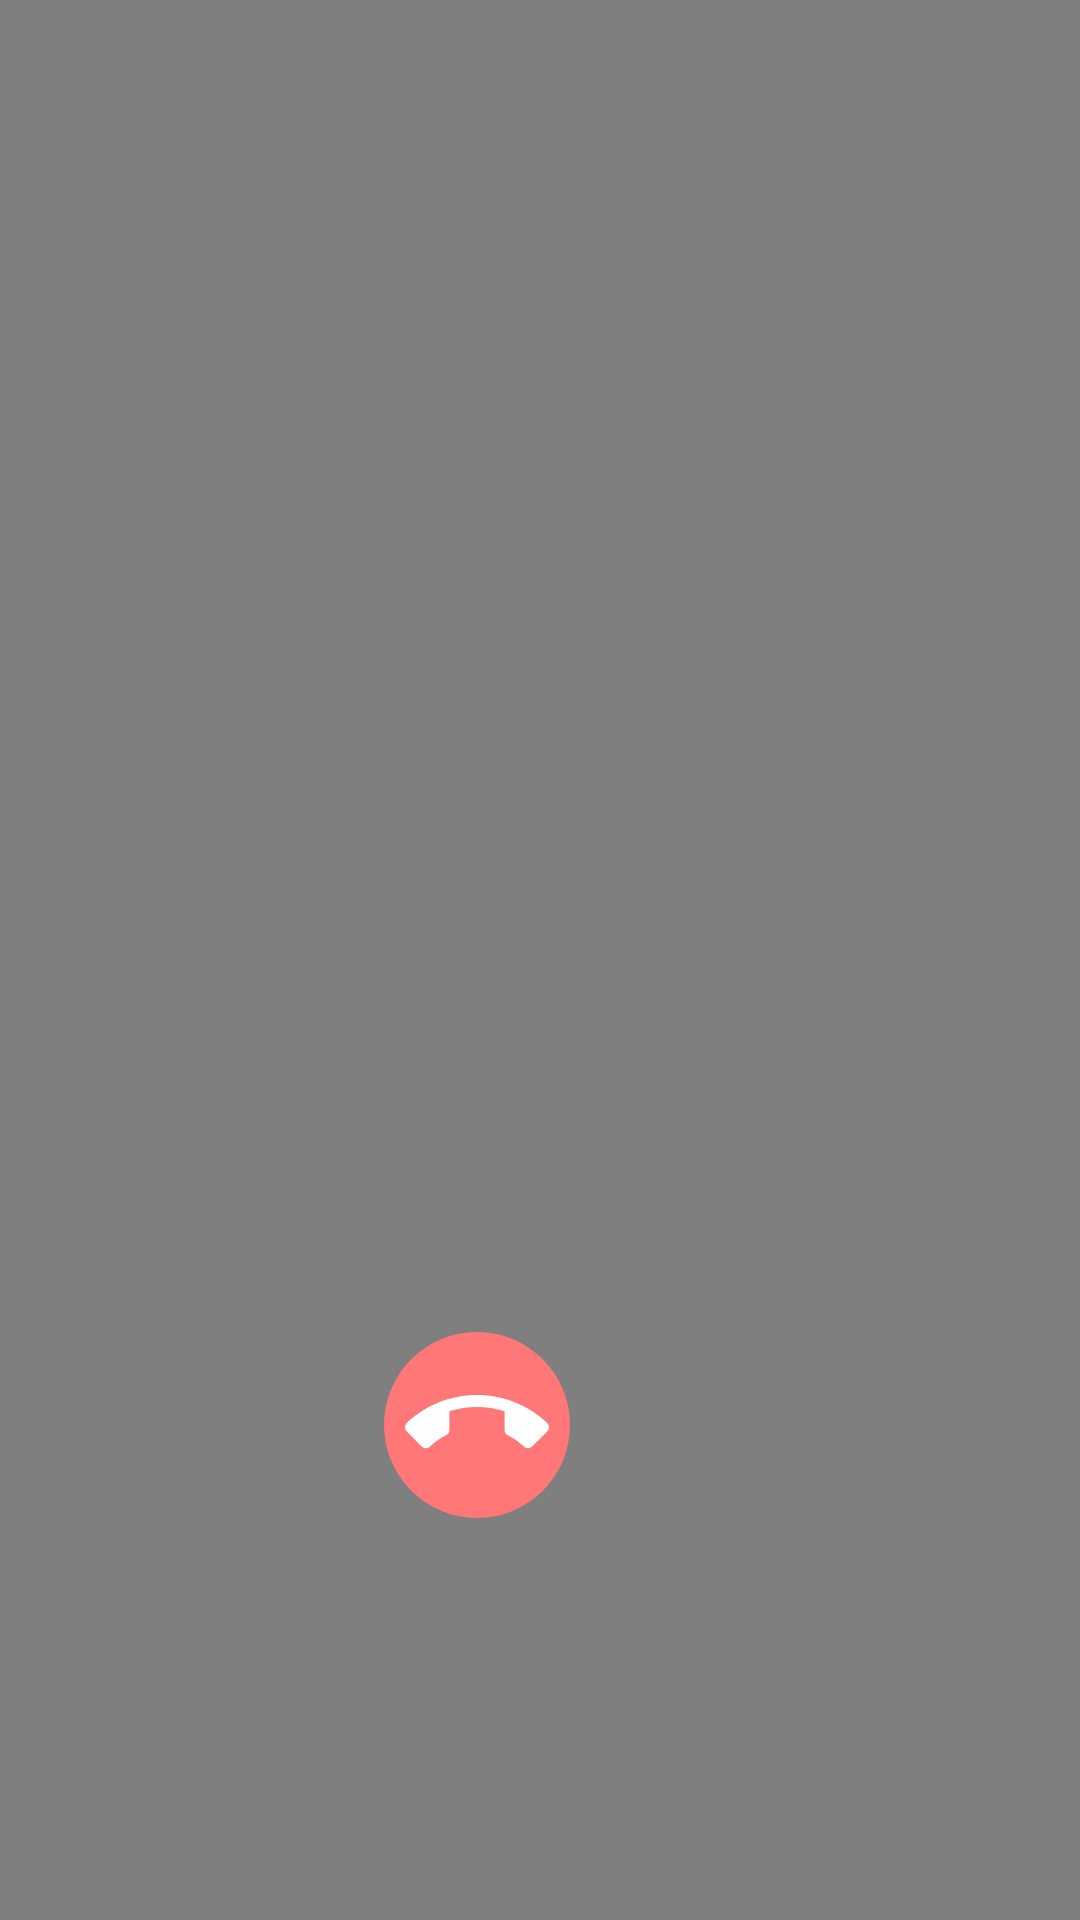

Locate icon controls on the screen. Image size 1080w x 1920h, boxes as [left=x1, top=y1, right=x2, bottom=y2].
end call: [left=384, top=1332, right=570, bottom=1518]
